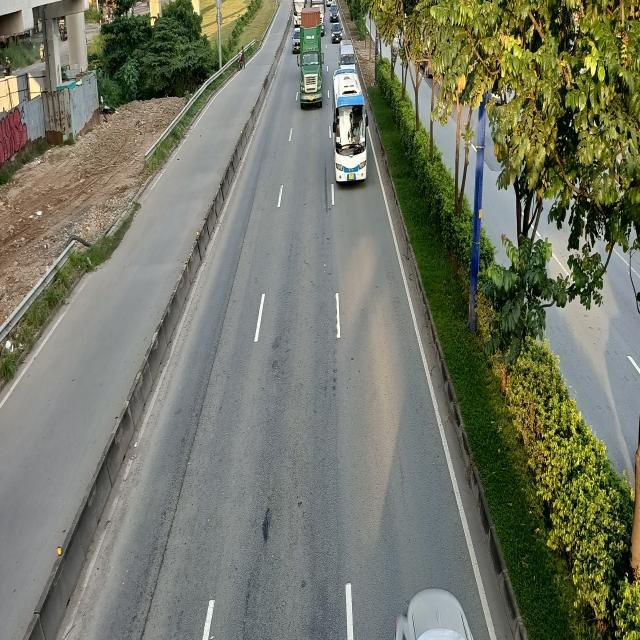car: (331, 22, 342, 43)
coach: (332, 67, 371, 184)
container: (298, 7, 324, 108)
van: (338, 40, 356, 67)
